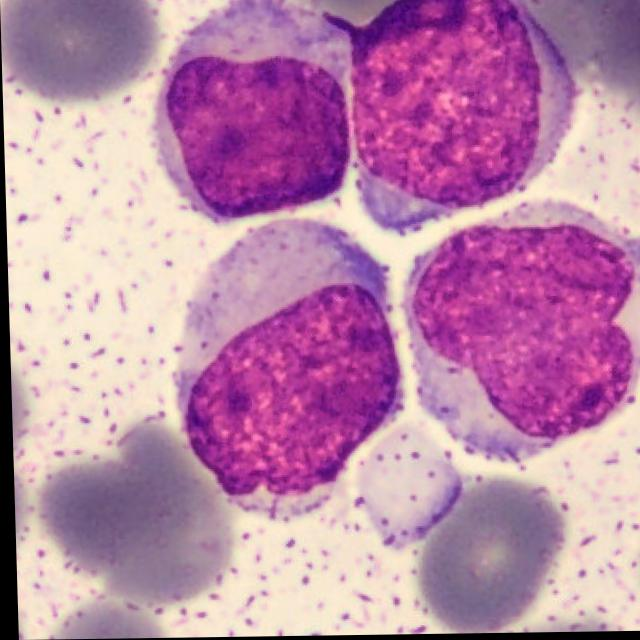Mieloblasto: (177, 218, 403, 511), (405, 203, 636, 470), (324, 0, 575, 238), (155, 6, 352, 224)
